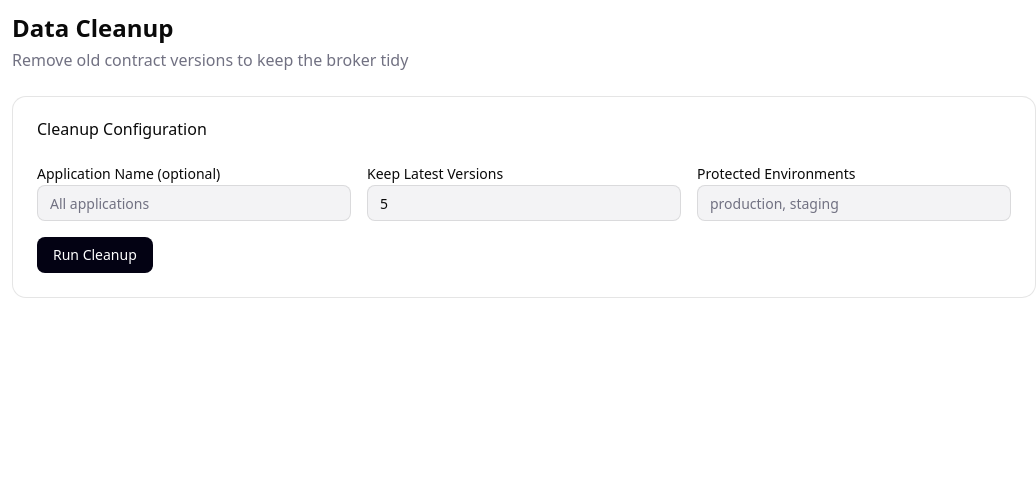
Test case: CleanupPage › should show result after submitting cleanup
The image size is (1036, 503).
Click the button "Run Cleanup".
click(95, 255)  # box [37,237,153,273]
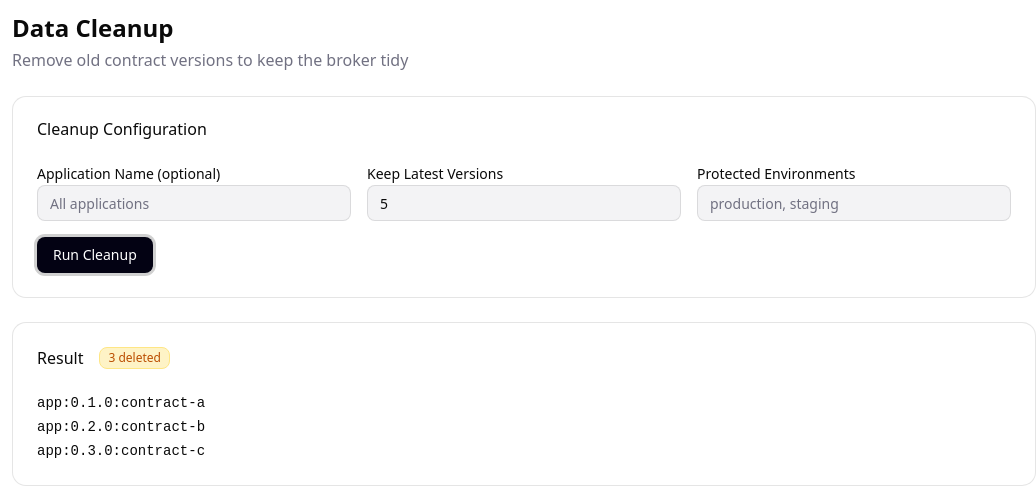
Now the heading "Result" is shown, box [37,350,83,366]
Now the text "3 deleted" is shown, box [99,347,170,369]
